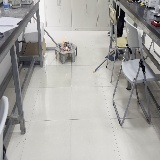fire: (62, 35, 68, 50)
